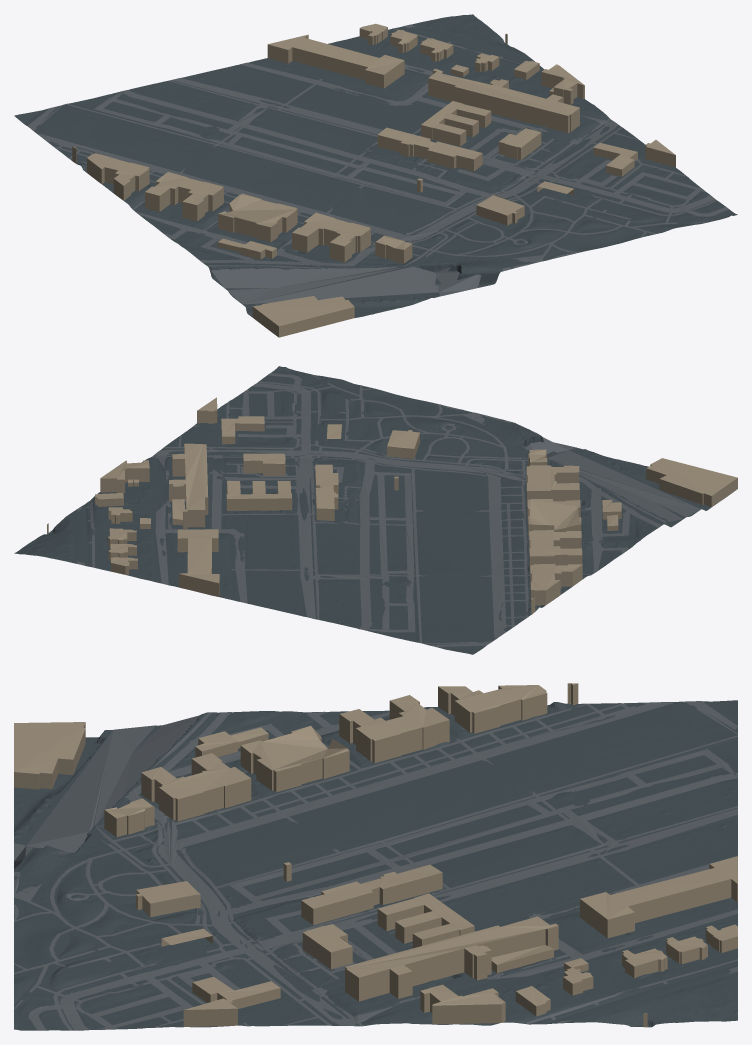
File: epsg26910-1426-10895.lod0.glb
The picture shows the model from 3 angles, top to bottom: view 1: azimuth 30°, elevation 25°; view 2: azimuth 150°, elevation 25°; view 3: azimuth 270°, elevation 25°; orthographic projection. The views are drawn at different scales.
Visible parts, largest first — view 1: epsg26910-1426-10895-lod0; view 2: epsg26910-1426-10895-lod0; view 3: epsg26910-1426-10895-lod0.
Part boxes in pixels (x1,y1,x2,y2): epsg26910-1426-10895-lod0: (14, 14, 737, 337); epsg26910-1426-10895-lod0: (14, 366, 737, 654); epsg26910-1426-10895-lod0: (14, 683, 737, 1030).
Size of the model in its own units: 384 by 32.35 by 384.
